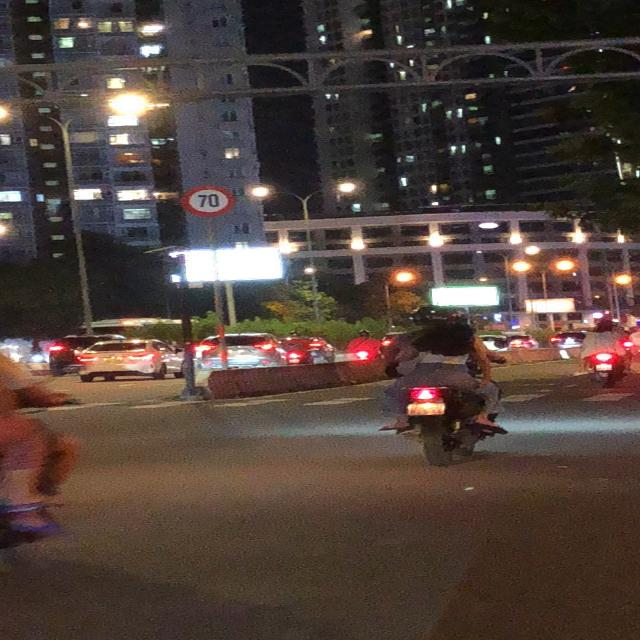Bien bao toc do toi da cho phep: (174, 181, 243, 218)
